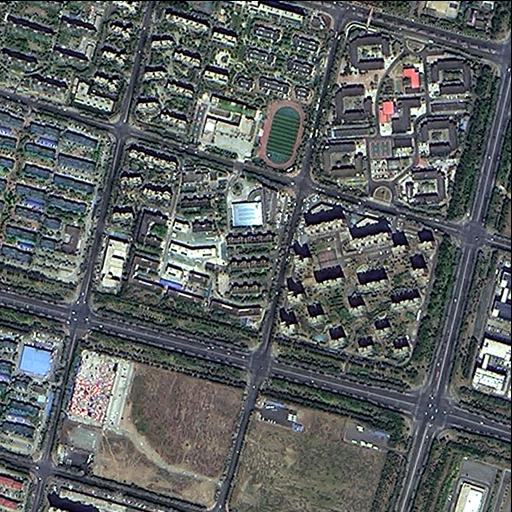school: (200, 91, 307, 171)
